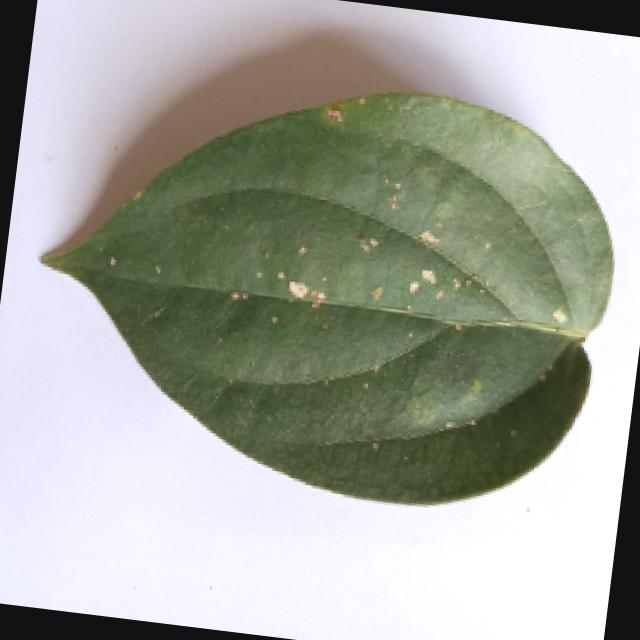pollu-disease: (3, 38, 628, 528)
